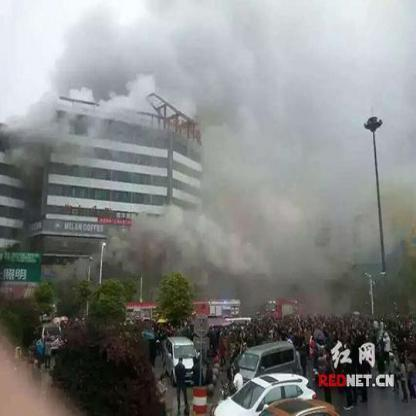smoke: (247, 23, 348, 152), (63, 5, 166, 100), (258, 158, 322, 298), (174, 5, 244, 112), (148, 217, 257, 285), (350, 14, 414, 103), (202, 125, 254, 217), (100, 230, 150, 280), (20, 88, 55, 119)
